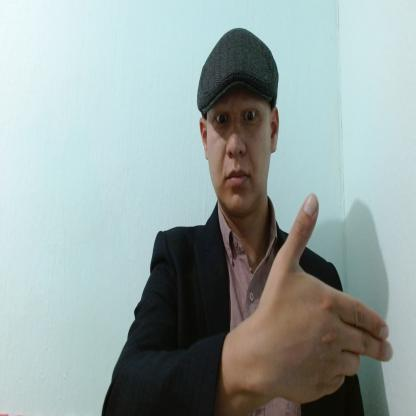H: (261, 195, 394, 406)
